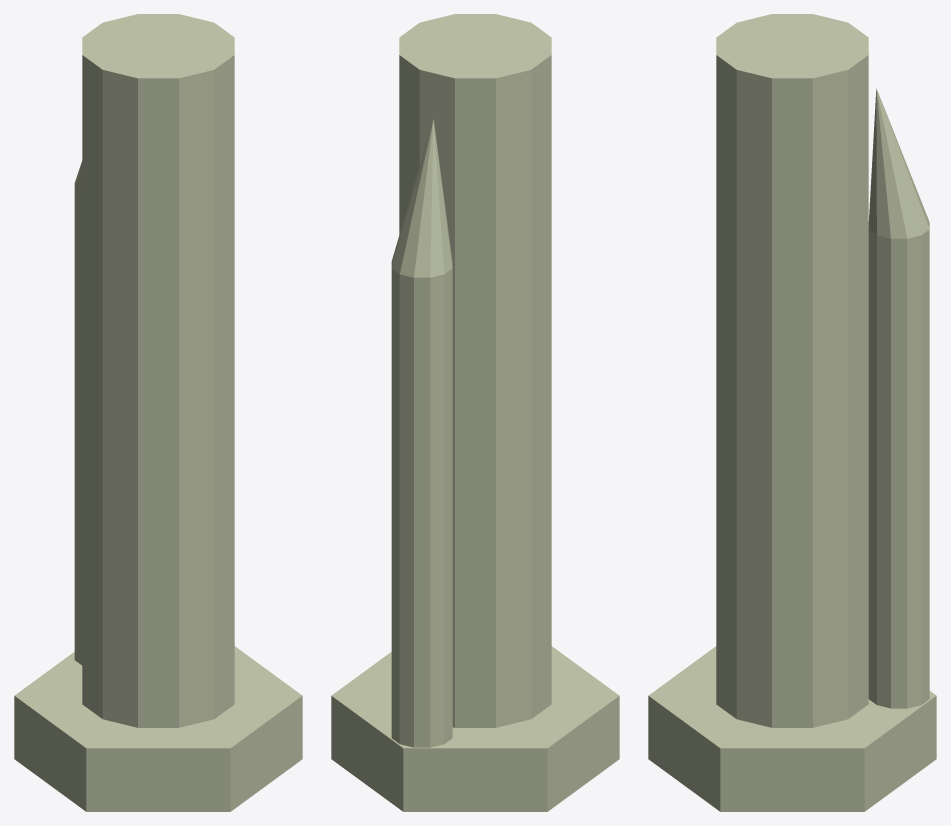
Rendered from ALV_1_Engine_1_Collider.obj.
The picture shows the model from 3 angles, left to right: view 1: azimuth 30°, elevation 25°; view 2: azimuth 150°, elevation 25°; view 3: azimuth 270°, elevation 25°; orthographic projection.
Parts seen in each view (by area): view 1: ALV_1_Engine_1_Collider2, ALV_1_Engine_1_Collider1, ALV_1_Engine_1_Collider3; view 2: ALV_1_Engine_1_Collider2, ALV_1_Engine_1_Collider3, ALV_1_Engine_1_Collider1; view 3: ALV_1_Engine_1_Collider2, ALV_1_Engine_1_Collider3, ALV_1_Engine_1_Collider1.
Boxes of the visible parts, x1=… form: ALV_1_Engine_1_Collider2: x1=82, y1=14, x2=234, y2=727; ALV_1_Engine_1_Collider1: x1=14, y1=646, x2=302, y2=811; ALV_1_Engine_1_Collider3: x1=74, y1=161, x2=82, y2=665; ALV_1_Engine_1_Collider2: x1=399, y1=14, x2=551, y2=727; ALV_1_Engine_1_Collider3: x1=391, y1=119, x2=452, y2=747; ALV_1_Engine_1_Collider1: x1=331, y1=646, x2=619, y2=811; ALV_1_Engine_1_Collider2: x1=716, y1=14, x2=868, y2=727; ALV_1_Engine_1_Collider3: x1=868, y1=88, x2=929, y2=708; ALV_1_Engine_1_Collider1: x1=648, y1=646, x2=936, y2=811.
Size of the model in its own units: 4.09 by 12.9 by 4.72.
